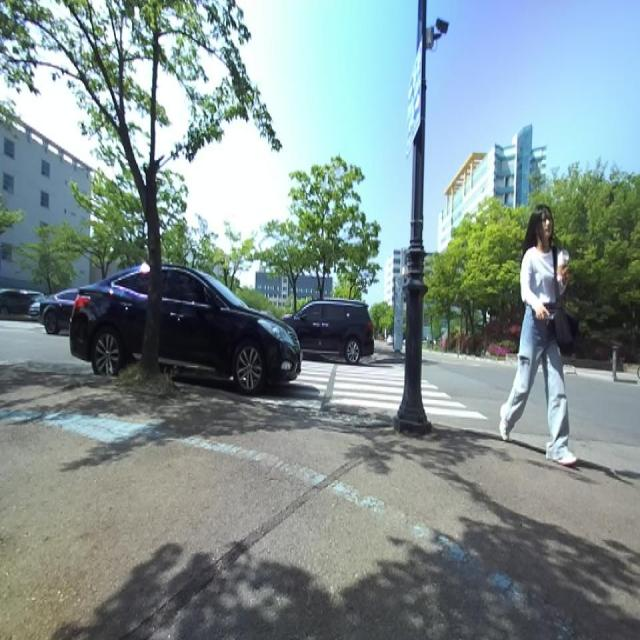sidewalk: (0, 368, 640, 639), (374, 348, 403, 360)
